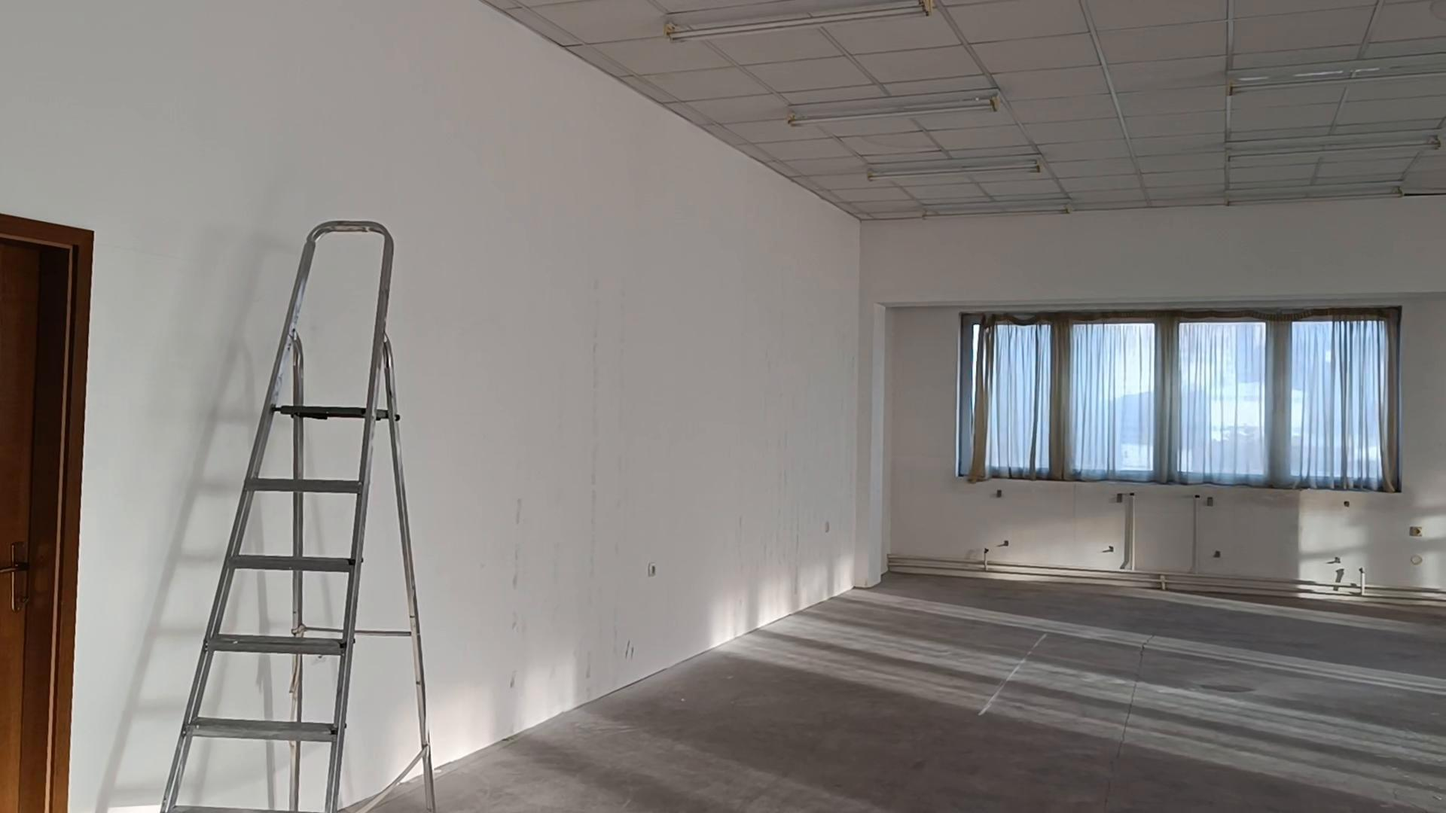ceiling: (483, 0, 1445, 219)
floor: (437, 574, 1445, 812)
wall: (0, 0, 1445, 810), (889, 319, 1411, 588)
